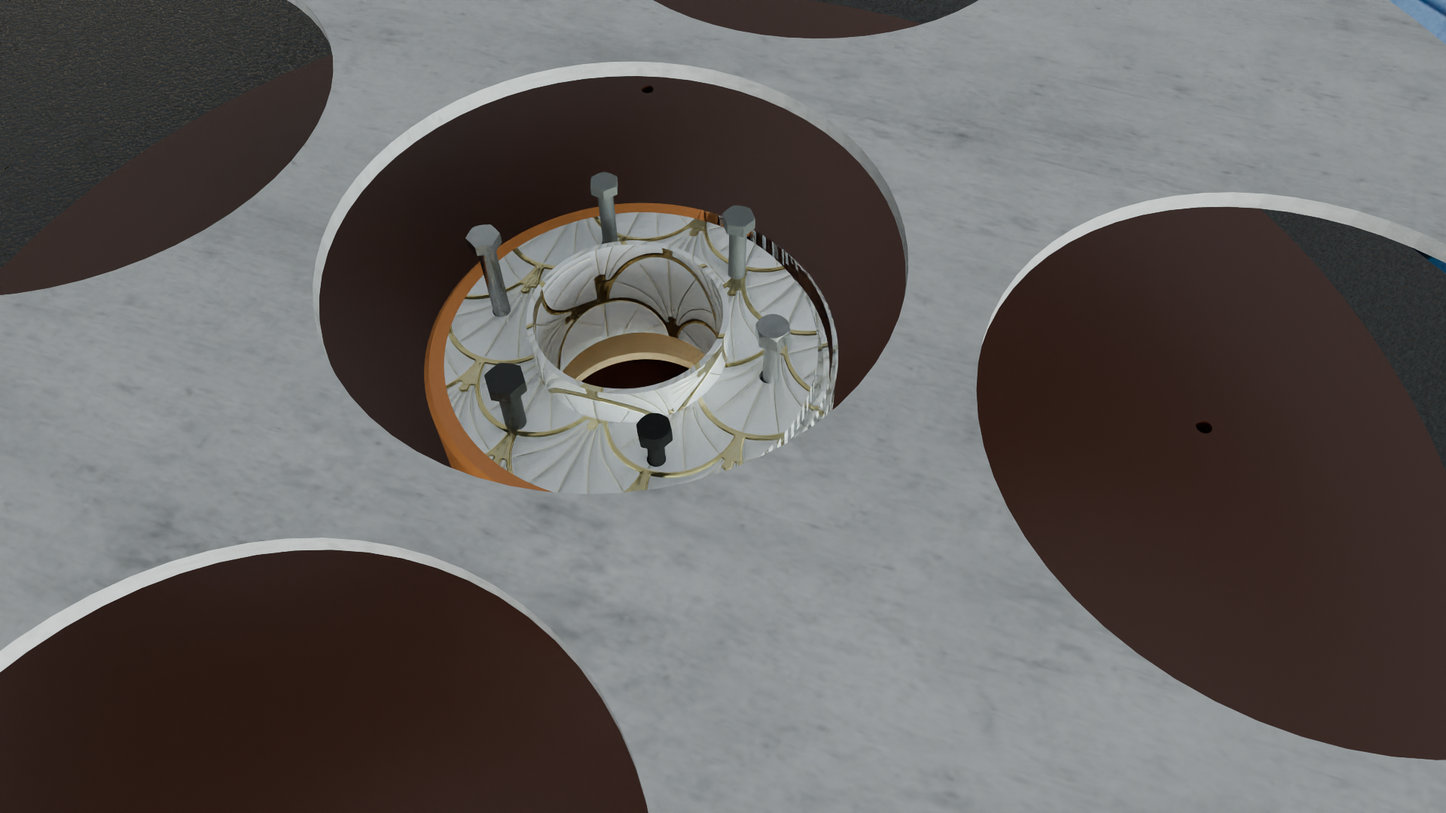bolt: (484, 363, 525, 395), (636, 413, 673, 443), (755, 314, 791, 343), (465, 224, 500, 248), (722, 205, 755, 229), (590, 172, 617, 192)
